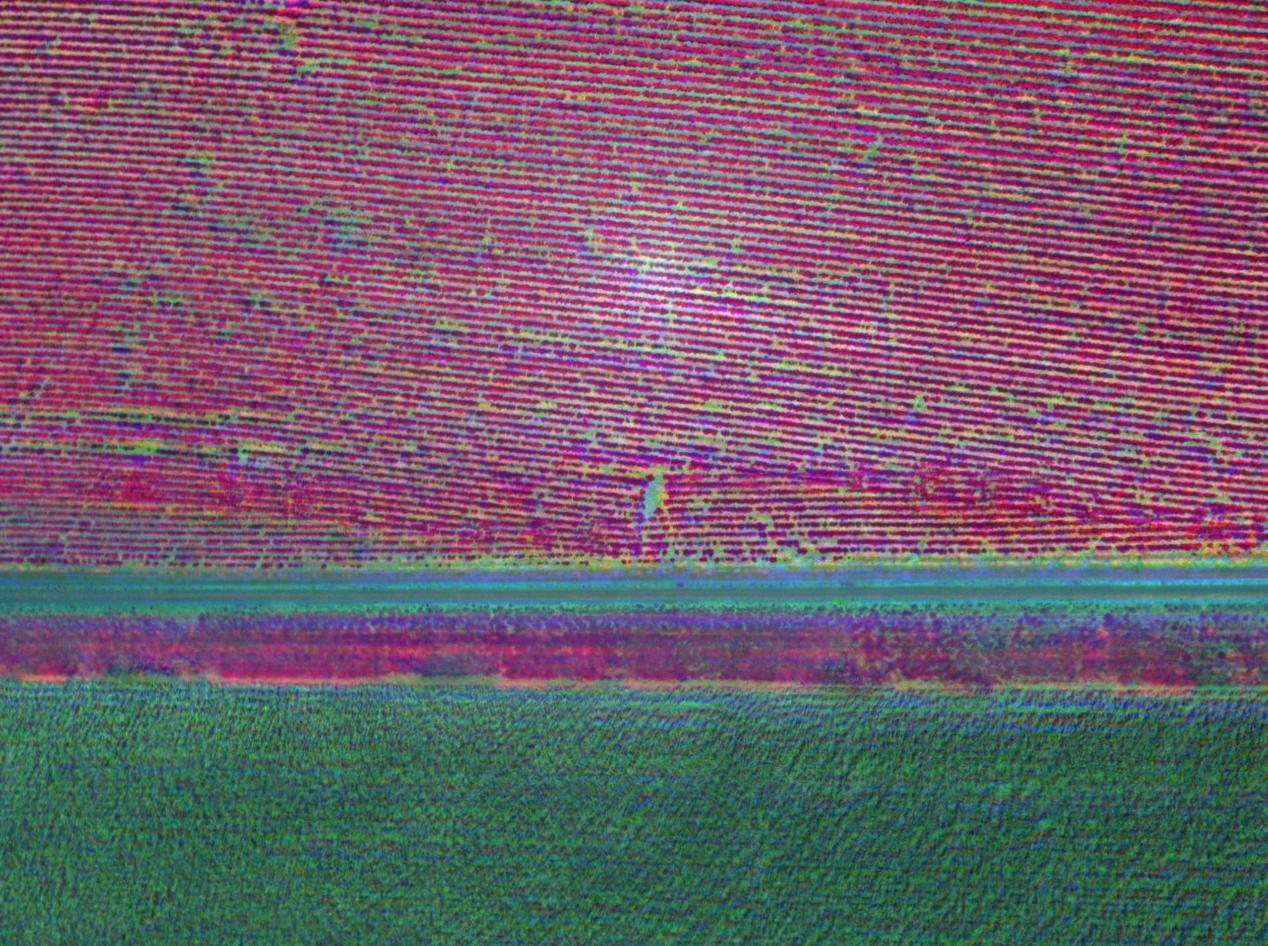dc: (646, 496, 651, 502), (706, 404, 711, 409), (540, 403, 545, 407), (652, 485, 656, 490), (890, 315, 894, 319), (437, 325, 442, 328)
